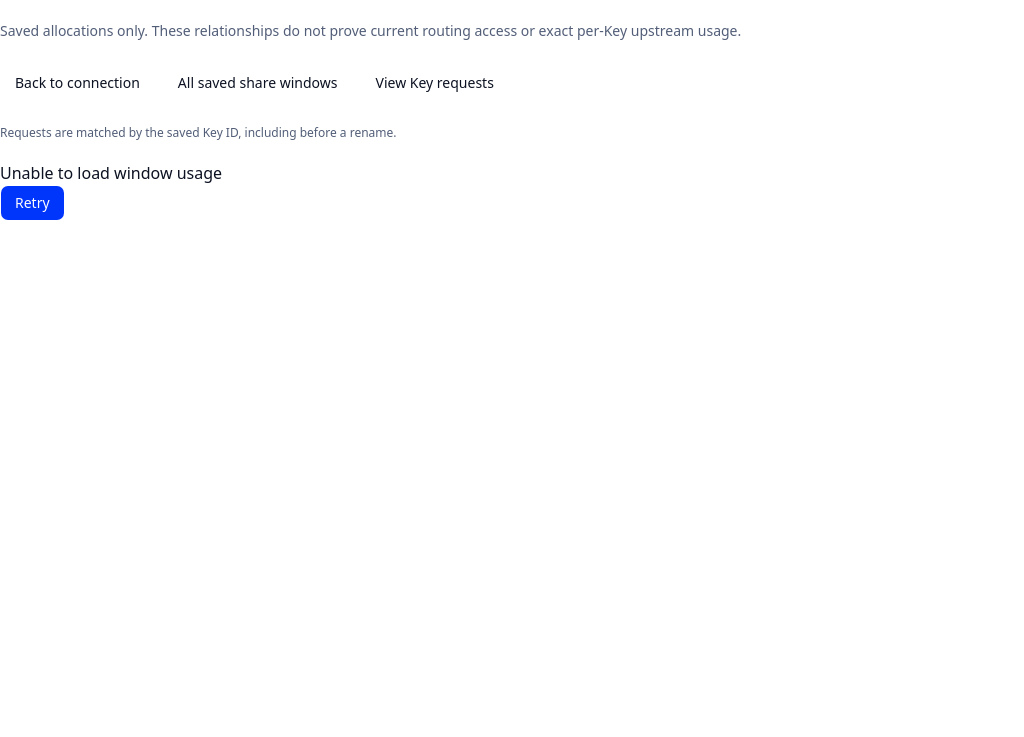
Test case: failed pool reads expose retry and recover without a generic Key name search
Expected: the message "Unable to load window usage Retry" is shown, [0,162,222,221]
Click the button "Retry".
click(32, 203)  # box [0,185,65,221]
(page scrolled)
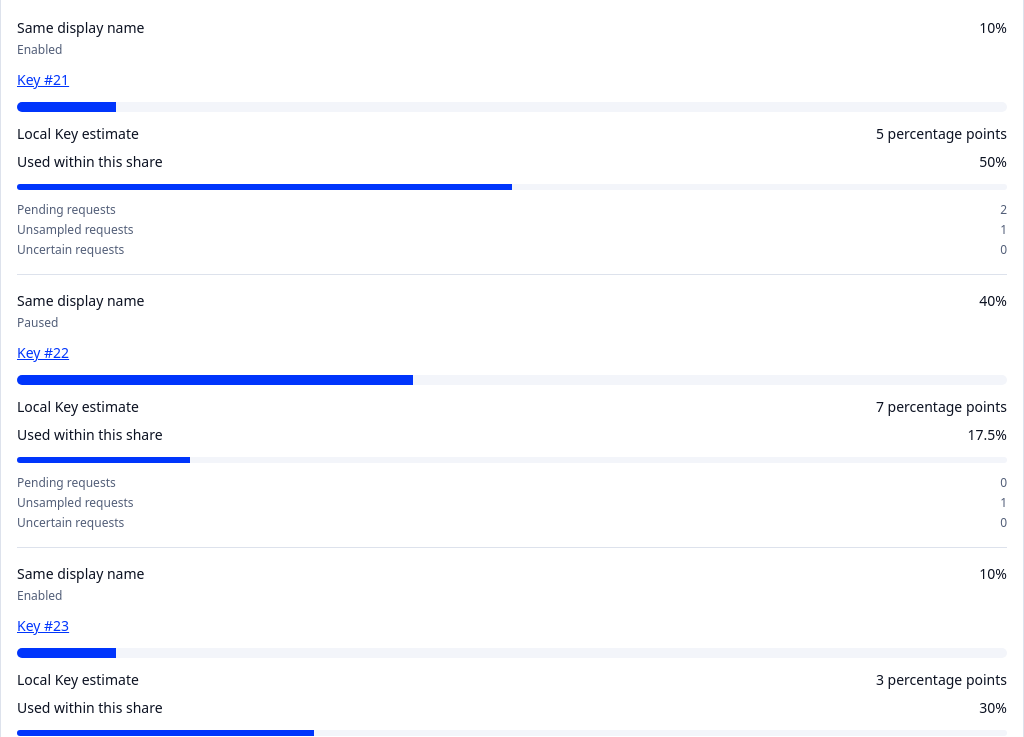
Now the link "Key #22" is shown, box [17,343,69,363]
